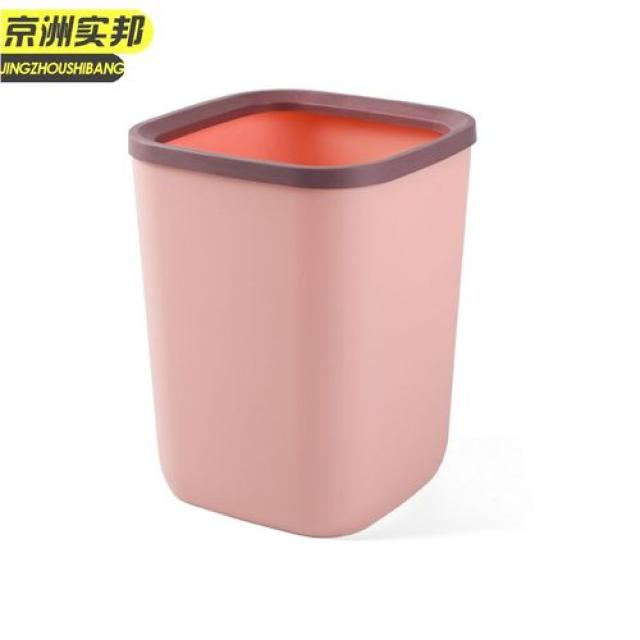dustbin: (124, 81, 483, 544)
